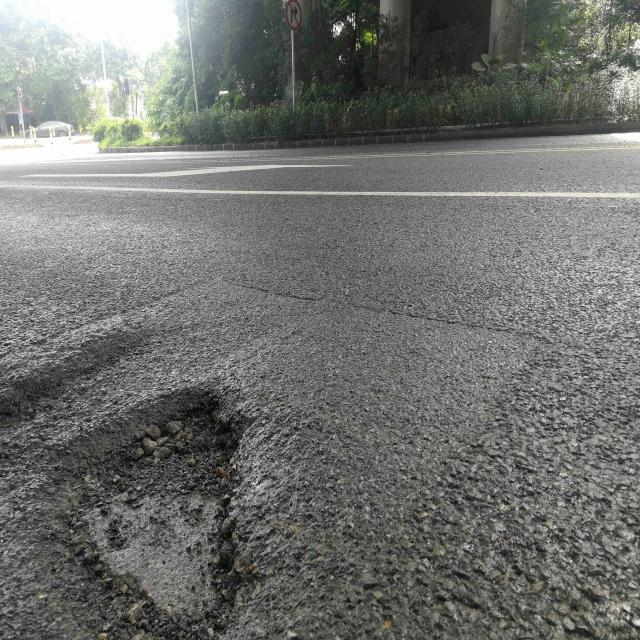Pothole: (40, 367, 254, 636)
